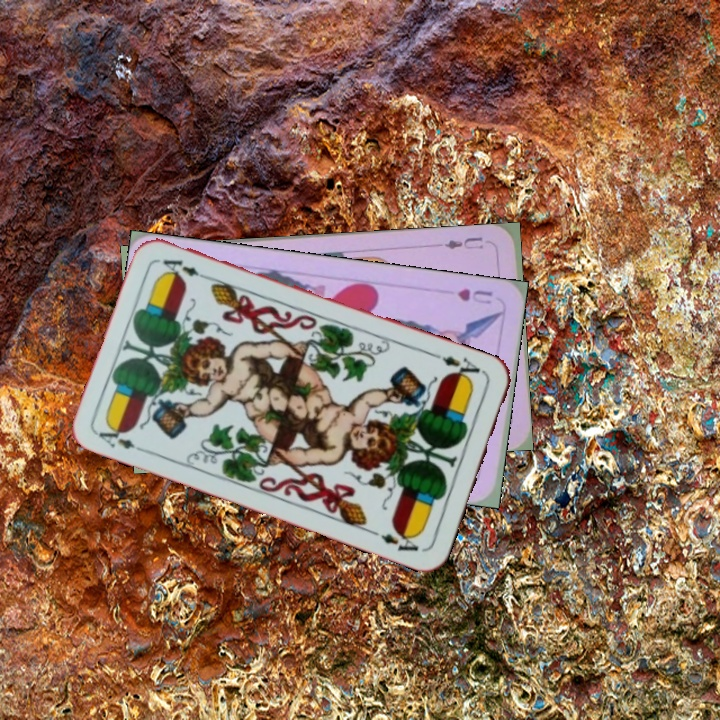EA: (94, 420, 151, 456), (430, 349, 488, 384)
EU: (440, 232, 486, 252)
HU: (453, 284, 495, 307)
